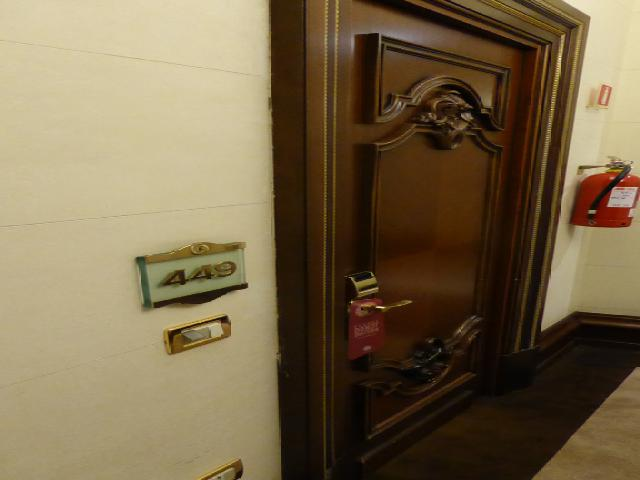Door-handle: (347, 271, 411, 312)
